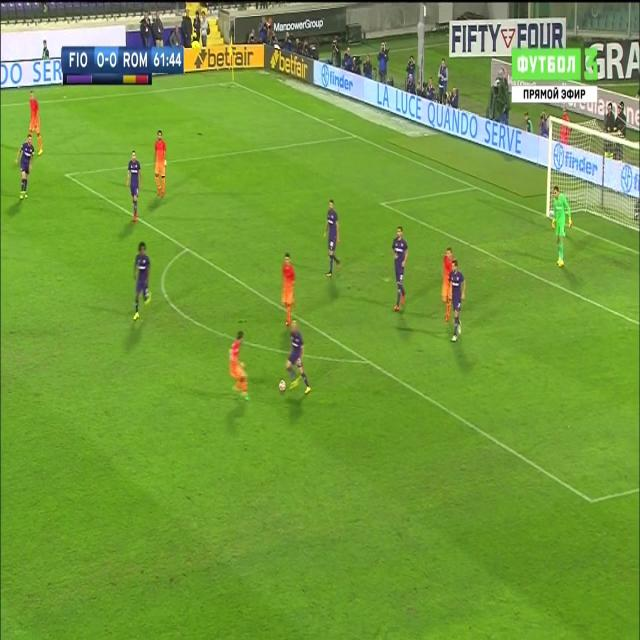Ball: (277, 377, 288, 396)
Goalkeeper: (548, 177, 572, 264)
Player: (285, 316, 312, 398), (226, 323, 252, 402), (130, 240, 152, 328), (448, 257, 467, 350), (323, 195, 342, 282), (392, 224, 408, 317), (125, 148, 144, 226), (279, 250, 297, 330), (152, 124, 170, 203), (15, 132, 35, 203), (27, 86, 45, 159), (441, 245, 456, 323)
